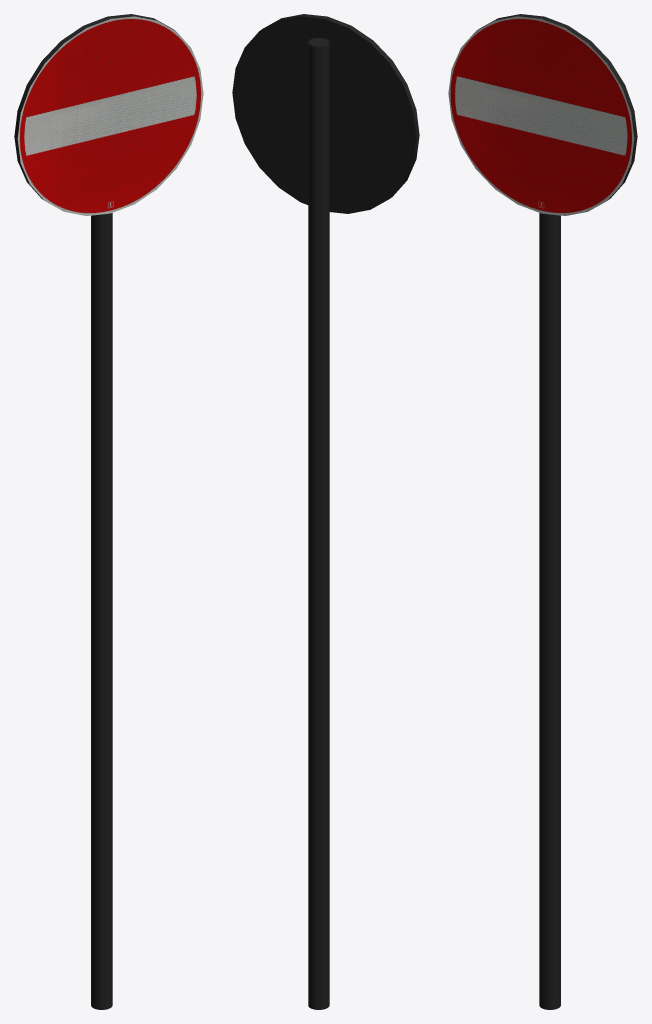
The model's file is RoadSign2.FBX.
3 renders of one model, left to right at view 1: azimuth 30°, elevation 25°; view 2: azimuth 150°, elevation 25°; view 3: azimuth 330°, elevation 25°, orthographic.
Visible parts, largest first — view 1: Group003, Cone011, Cone012; view 2: Cone012, Cone011; view 3: Group003, Cone011, Cone012.
Part boxes in pixels (x1,y1,x2,y2): Group003: (17,16,203,215); Cone011: (91,213,112,1009); Cone012: (14,14,175,200); Cone012: (232,14,419,213); Cone011: (308,38,329,1009); Group003: (448,16,634,215); Cone011: (539,213,560,1009); Cone012: (476,14,637,200).
Size of the model in its own units: 100 by 510 by 13.2.
Materials: 2 (1 with a texture image).
